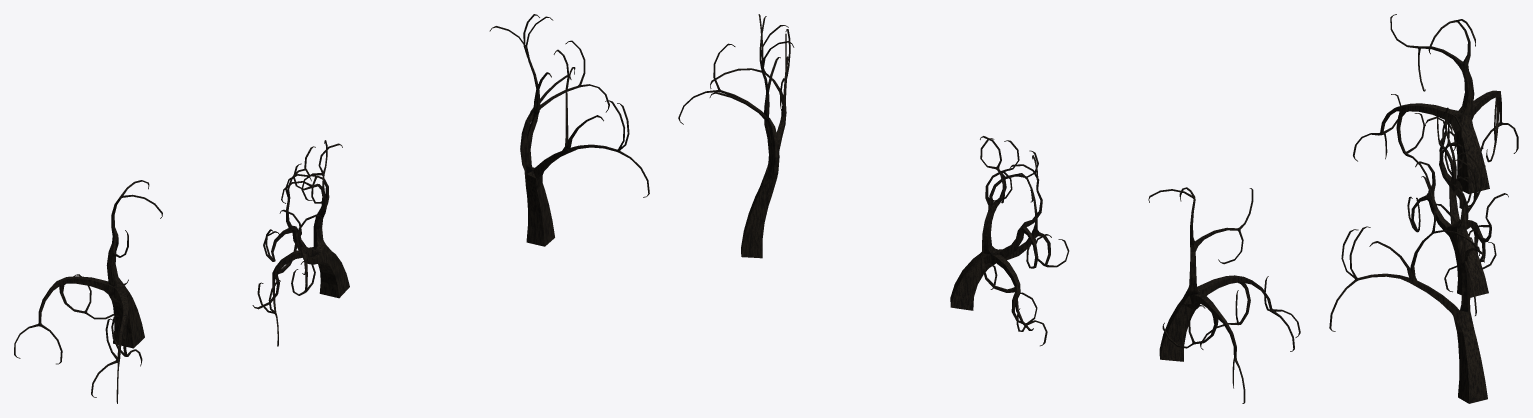
The model's file is DeadTrees.fbx.
3 renders of one model, left to right at view 1: azimuth 30°, elevation 25°; view 2: azimuth 150°, elevation 25°; view 3: azimuth 270°, elevation 25°, orthographic. The views are drawn at different scales.
Parts seen in each view (by area): view 1: DeadTree_C, DeadTree_B, DeadTree; view 2: DeadTree_B, DeadTree, DeadTree_C; view 3: DeadTree_C, DeadTree, DeadTree_B.
Part boxes in pixels (bbox=[...]): DeadTree_C: bbox=[489, 14, 649, 246]; DeadTree_B: bbox=[252, 140, 349, 346]; DeadTree: bbox=[14, 180, 162, 403]; DeadTree_B: bbox=[950, 136, 1069, 346]; DeadTree: bbox=[1148, 187, 1300, 403]; DeadTree_C: bbox=[678, 14, 794, 258]; DeadTree_C: bbox=[1329, 146, 1487, 403]; DeadTree: bbox=[1353, 14, 1518, 193]; DeadTree_B: bbox=[1407, 107, 1508, 297].
Size of the model in its own units: 50.35 by 21.92 by 13.7.
3 materials, 3 textured.
